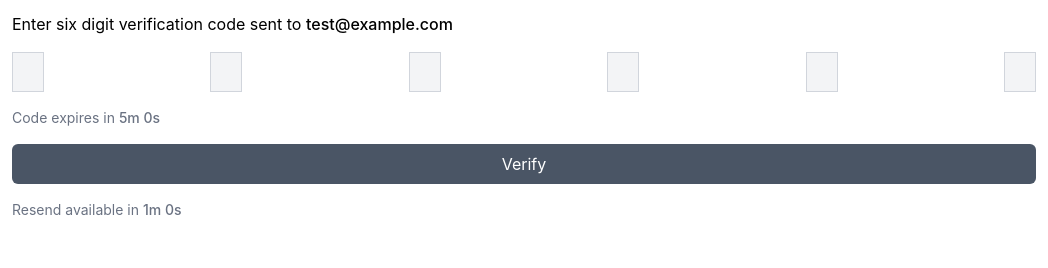
VerificationStep › shows generic verification error on unknown failure
Type "1" into the 1st field at (28, 72), box [12, 52, 44, 92]
Type "2" into the 2nd field at (226, 72), box [210, 52, 242, 92]
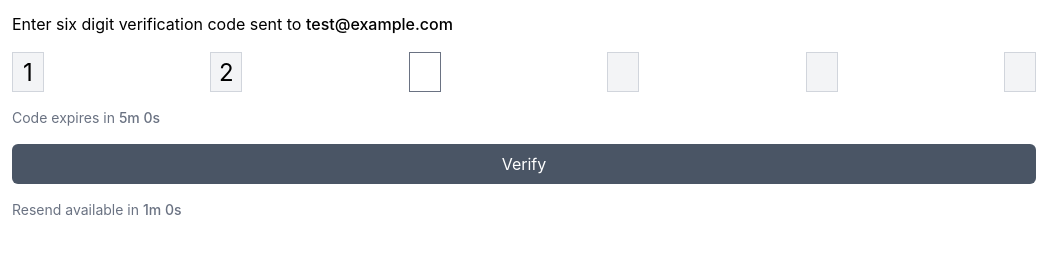
Type "3" into the 3rd field at (425, 72), box [409, 52, 441, 92]
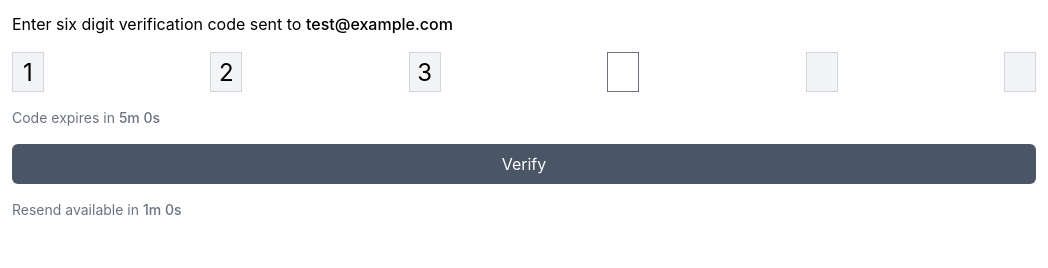
Type "4" into the 4th field at (623, 72), box [607, 52, 639, 92]
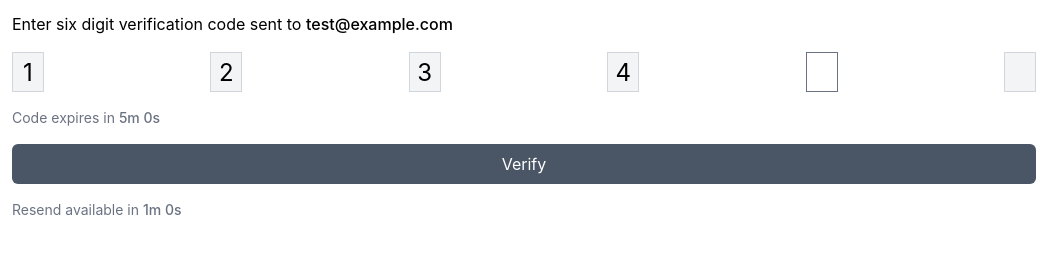
Type "5" into the 5th field at (822, 72), box [806, 52, 838, 92]
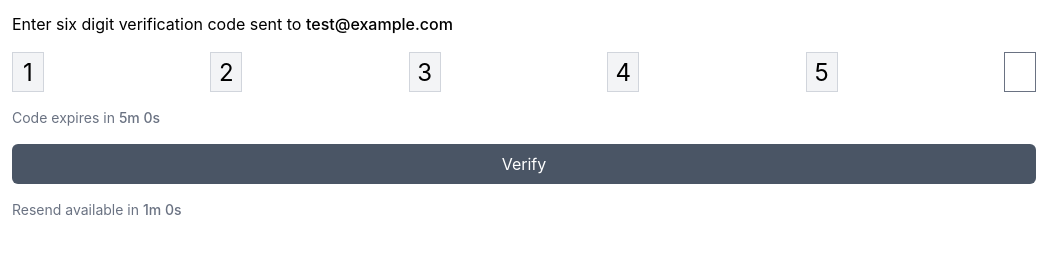
Type "6" into the 6th field at (1020, 72), box [1004, 52, 1036, 92]
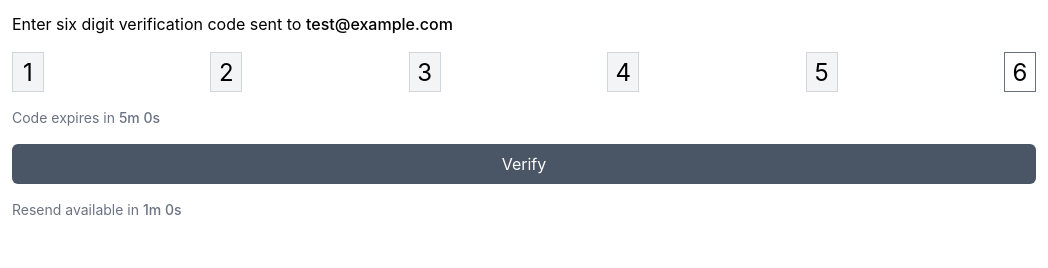
Click the button "Verify" at (524, 164), box [12, 144, 1036, 184]
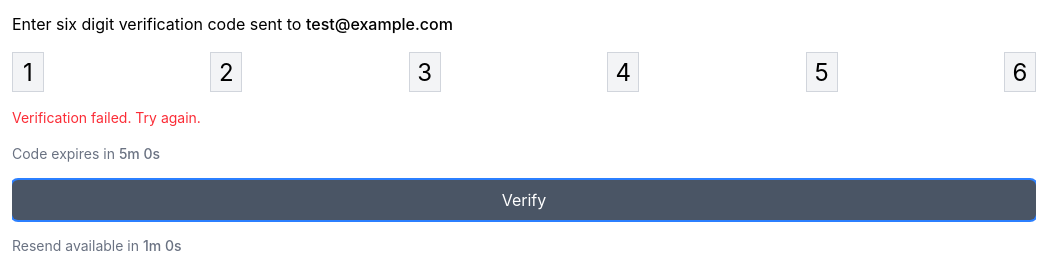
Expected: the text "Verification failed. Try again." is shown, [12, 109, 201, 126]
